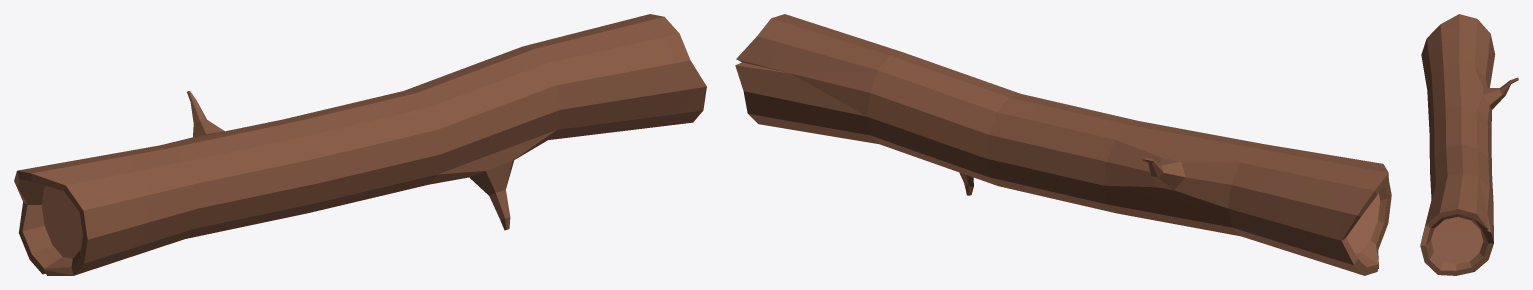
The model's file is mod_bg_RondinGrandMoyen.fbx.
3 renders of one model, left to right at view 1: azimuth 30°, elevation 25°; view 2: azimuth 150°, elevation 25°; view 3: azimuth 270°, elevation 25°, orthographic. The views are drawn at different scales.
Visible parts, largest first — view 1: RondinGrandMoyen; view 2: RondinGrandMoyen; view 3: RondinGrandMoyen.
Boxes of the visible parts, bbox=[...] form: RondinGrandMoyen: bbox=[14, 14, 706, 275]; RondinGrandMoyen: bbox=[735, 14, 1391, 275]; RondinGrandMoyen: bbox=[1420, 14, 1518, 275].
Bounding box in the file's own units: 295 × 66.84 × 61.3.
